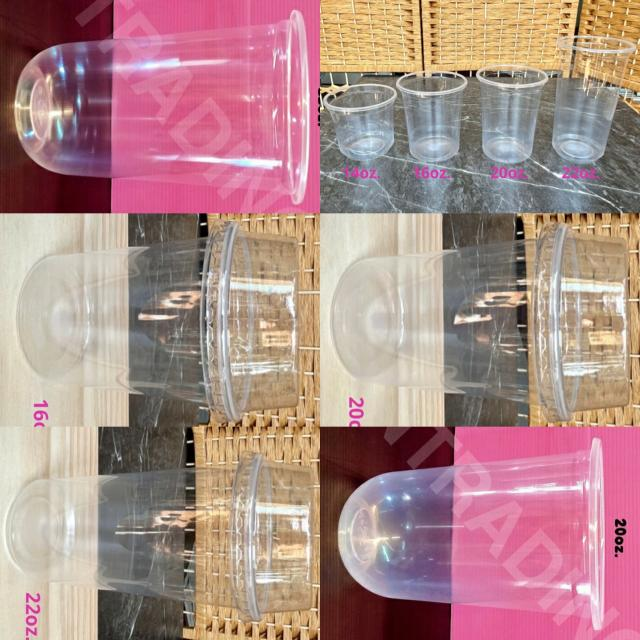Single-Use-Plastic: (332, 222, 629, 422), (15, 12, 308, 204), (19, 221, 299, 421), (8, 452, 314, 621), (338, 439, 604, 629), (552, 35, 635, 162), (477, 65, 548, 164), (397, 71, 467, 162), (323, 84, 397, 160)
